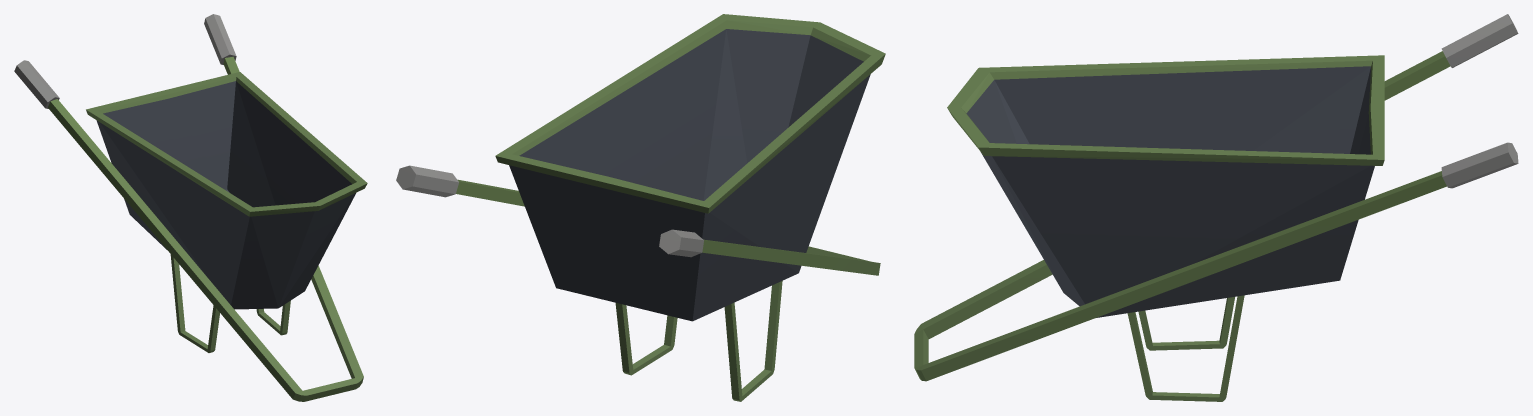
Rendered from Wheelbarrow_02.fbx.
3 renders of one model, left to right at view 1: azimuth 30°, elevation 25°; view 2: azimuth 150°, elevation 25°; view 3: azimuth 270°, elevation 25°, orthographic. The views are drawn at different scales.
Visible parts, largest first — view 1: Wheelbarrow_02; view 2: Wheelbarrow_02; view 3: Wheelbarrow_02.
Boxes of the visible parts, x1,y1,x2,y2 form: Wheelbarrow_02: [14, 14, 367, 401]; Wheelbarrow_02: [396, 14, 885, 401]; Wheelbarrow_02: [914, 14, 1518, 401].
Size of the model in its own units: 0.8831 by 0.8764 by 1.62.
